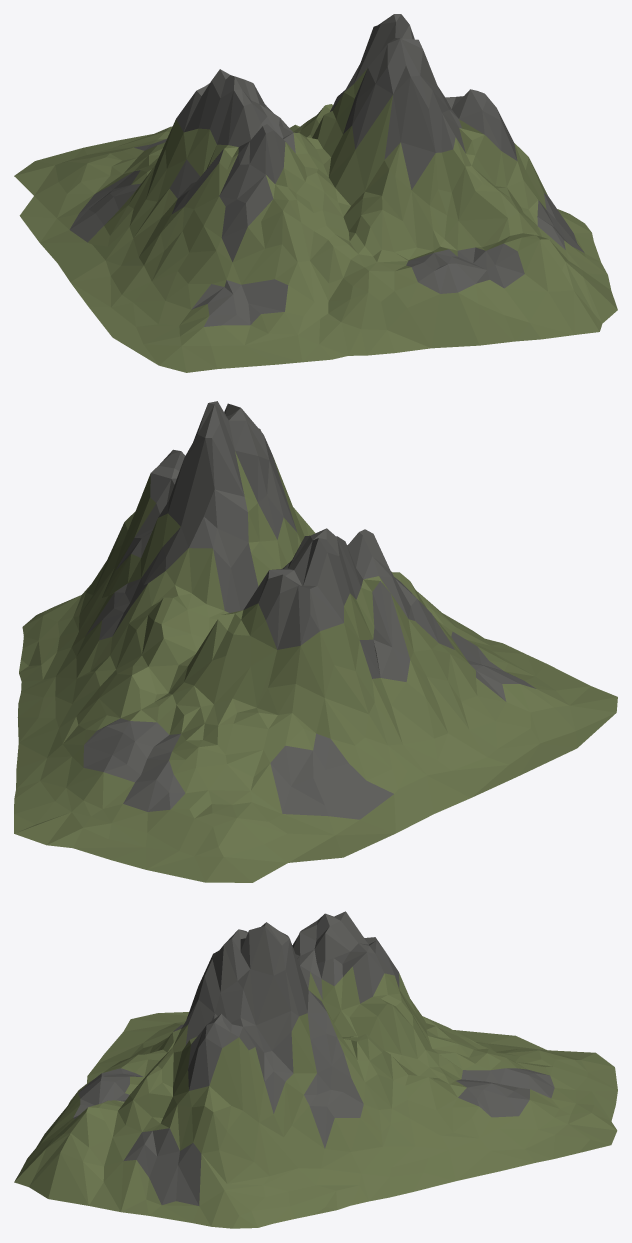
File: SM_Envr_Nature_Mountain_08.fbx
3 renders of one model, top to bottom at view 1: azimuth 30°, elevation 25°; view 2: azimuth 150°, elevation 25°; view 3: azimuth 270°, elevation 25°, orthographic. The views are drawn at different scales.
Visible parts, largest first — view 1: SM_Envr_Nature_Mountain_08; view 2: SM_Envr_Nature_Mountain_08; view 3: SM_Envr_Nature_Mountain_08.
Part boxes in pixels (x1,y1,x2,y2): SM_Envr_Nature_Mountain_08: (14,14,617,372); SM_Envr_Nature_Mountain_08: (14,401,617,882); SM_Envr_Nature_Mountain_08: (14,911,617,1228).
Size of the model in its own units: 38336 by 18536 by 44797.
